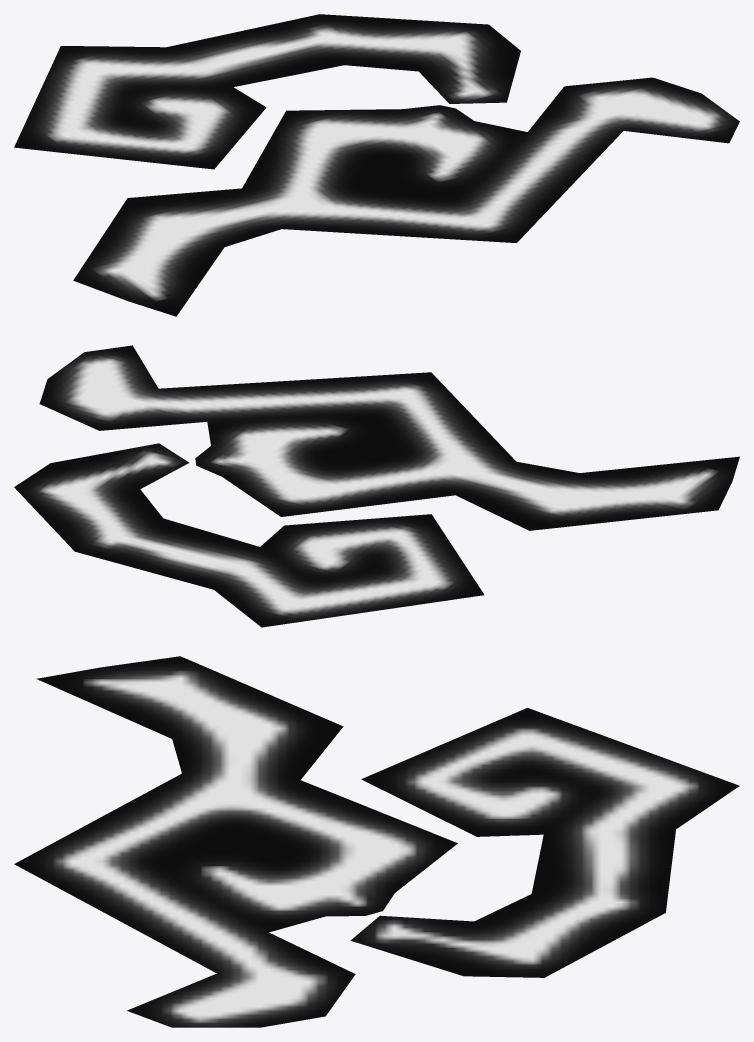
The picture shows the model from 3 angles, top to bottom: view 1: azimuth 30°, elevation 25°; view 2: azimuth 150°, elevation 25°; view 3: azimuth 270°, elevation 25°; orthographic projection. The views are drawn at different scales.
Visible parts, largest first — view 1: Br_n; view 2: Br_n; view 3: Br_n.
Part boxes in pixels (x1=…): Br_n: x1=14, y1=14, x2=739, y2=316; Br_n: x1=14, y1=345, x2=739, y2=627; Br_n: x1=14, y1=656, x2=739, y2=1027.
Bounding box in the file's own units: 419 × 1.19e-05 × 346.
